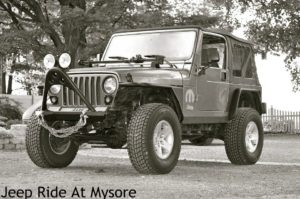Vehicle: (17, 23, 273, 175)
